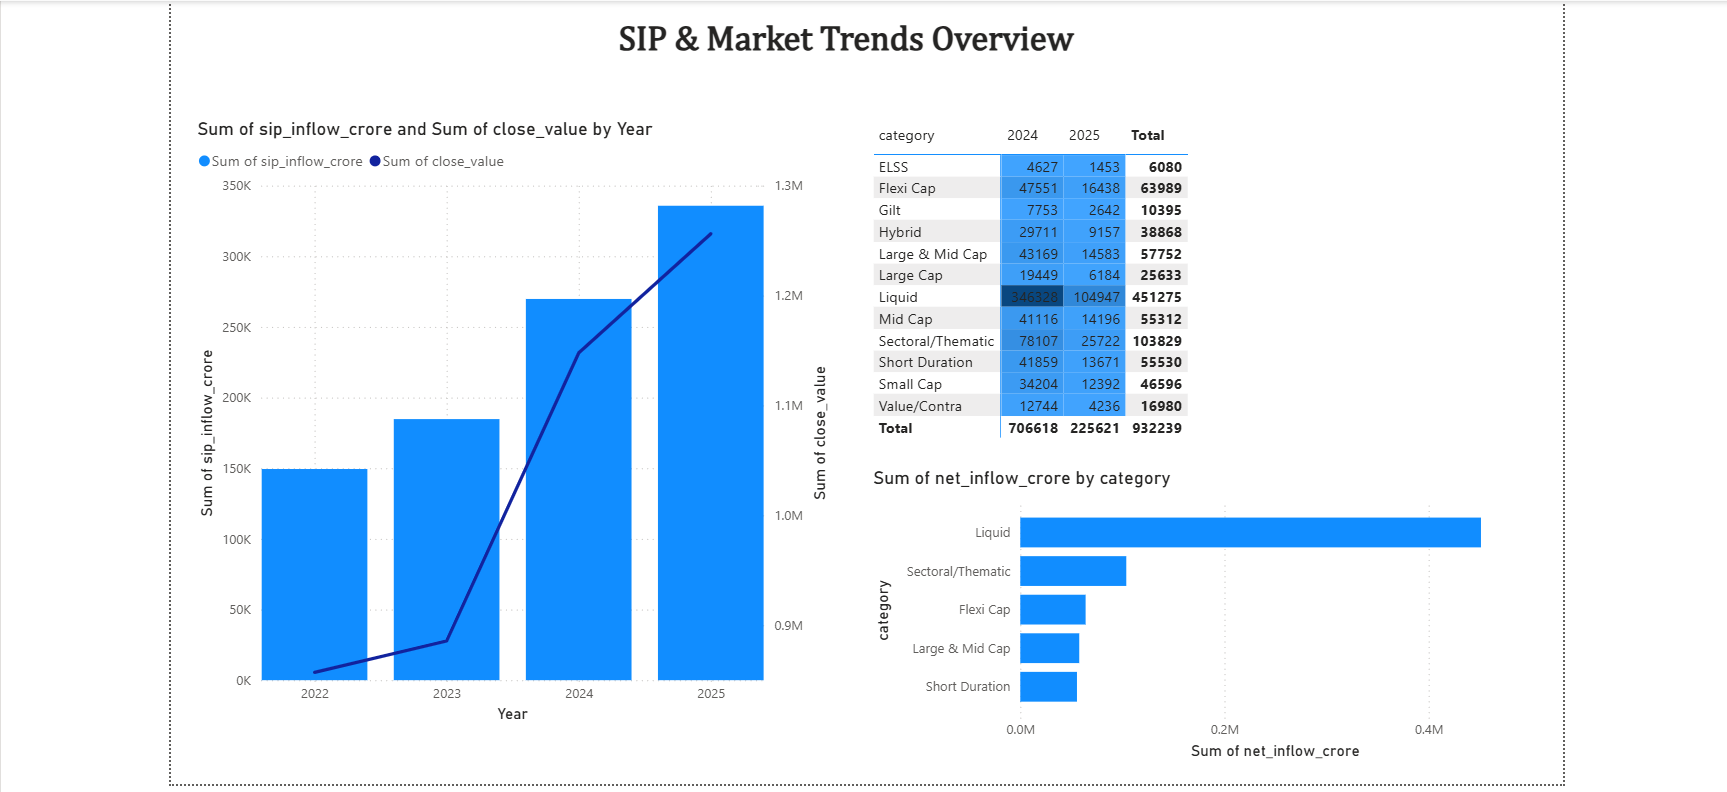

The dashboard page shown, as its layout file describes it:
{"tool":"powerbi","page":{"name":"SIP & Market Trends","canvas":[1280,720],"ordinal":3},"visuals":[{"type":"textbox","box":[406.7,11.7,873.3,128.3],"z":0},{"type":"lineClusteredColumnComboChart","fields":{"Category":["04_monthly_sip_inflows_clean.month.Variation.Date Hierarchy.Year","04_monthly_sip_inflows_clean.month.Variation.Date Hierarchy.Quarter","04_monthly_sip_inflows_clean.month.Variation.Date Hierarchy.Month","04_monthly_sip_inflows_clean.month.Variation.Date Hierarchy.Day"],"Y":["Sum(04_monthly_sip_inflows_clean.sip_inflow_crore)"],"Y2":["Sum(10_benchmark_indices_clean.close_value)"]},"box":[18.8,107.8,589.1,560.9],"z":1000},{"type":"pivotTable","fields":{"Rows":["05_category_inflows_clean.category"],"Columns":["05_category_inflows_clean.month.Variation.Date Hierarchy.Year","05_category_inflows_clean.month.Variation.Date Hierarchy.Quarter","05_category_inflows_clean.month.Variation.Date Hierarchy.Month","05_category_inflows_clean.month.Variation.Date Hierarchy.Day"],"Values":["Sum(05_category_inflows_clean.net_inflow_crore)"]},"box":[640.6,107.8,365.6,320.3],"z":2000},{"type":"clusteredBarChart","fields":{"Category":["05_category_inflows_clean.category"],"Y":["Sum(05_category_inflows_clean.net_inflow_crore)"]},"box":[640.6,428.1,628.1,273.4],"z":3000}]}

Visuals, with their boxes on the page's 1280x720 design canvas (x1, y1, x2, y2). These are canvas units, not pixel positions in the 1727x792 screenshot, which may show the page scaled, cropped or inside an application window:
textbox: (left=407, top=12, right=1280, bottom=140)
lineClusteredColumnComboChart - 04_monthly_sip_inflows_clean.month.Variation.Date Hierarchy.Year x 04_monthly_sip_inflows_clean.month.Variation.Date Hierarchy.Quarter: (left=19, top=108, right=608, bottom=669)
pivotTable - 05_category_inflows_clean.category x 05_category_inflows_clean.month.Variation.Date Hierarchy.Year: (left=641, top=108, right=1006, bottom=428)
clusteredBarChart - 05_category_inflows_clean.category x Sum(05_category_inflows_clean.net_inflow_crore): (left=641, top=428, right=1269, bottom=702)
